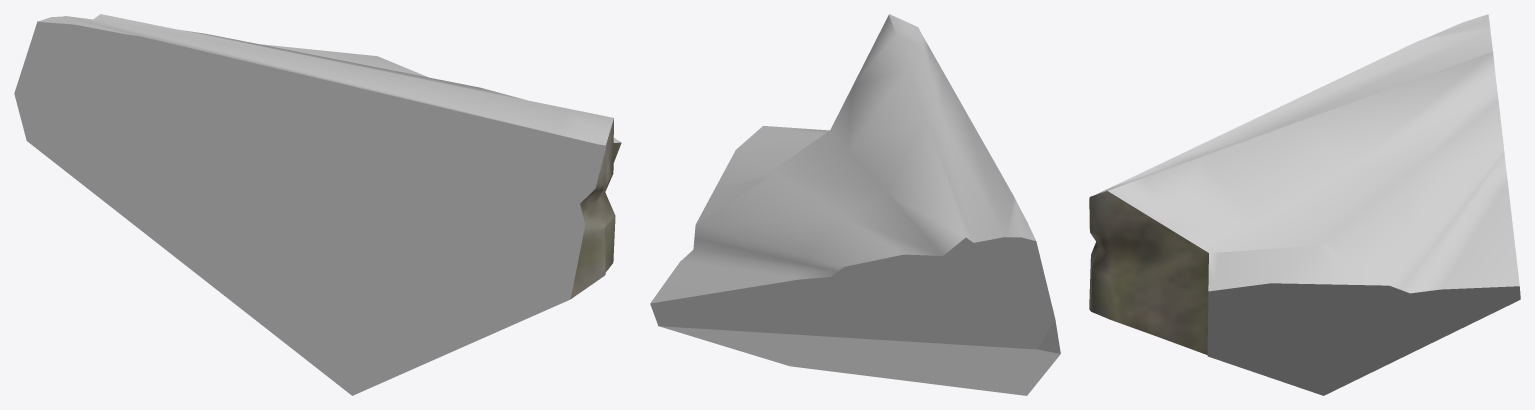
Rendered from ColumnDamage08_41.fbx.
The picture shows the model from 3 angles, left to right: view 1: azimuth 30°, elevation 25°; view 2: azimuth 150°, elevation 25°; view 3: azimuth 270°, elevation 25°; orthographic projection. The views are drawn at different scales.
Visible parts, largest first — view 1: ColumnDamage08_DM.041; view 2: ColumnDamage08_DM.041; view 3: ColumnDamage08_DM.041.
Boxes of the visible parts, left/top/right/bottom form: ColumnDamage08_DM.041: left=14, top=14, right=621, bottom=395; ColumnDamage08_DM.041: left=650, top=14, right=1060, bottom=395; ColumnDamage08_DM.041: left=1089, top=14, right=1520, bottom=395.
Size of the model in its own units: 119 by 77.26 by 113.
